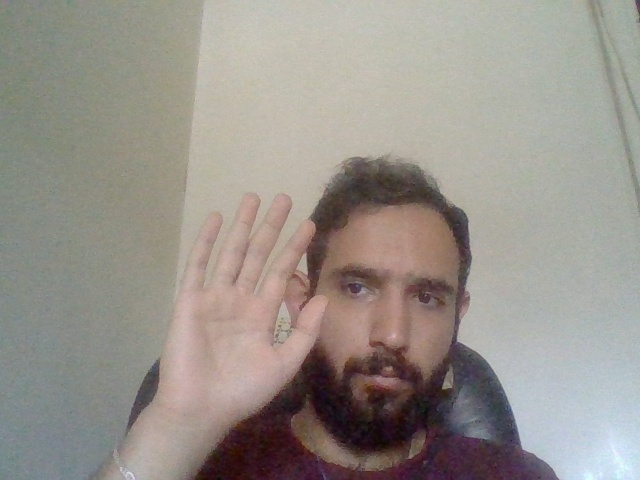Goodbye: (170, 178, 327, 436)
